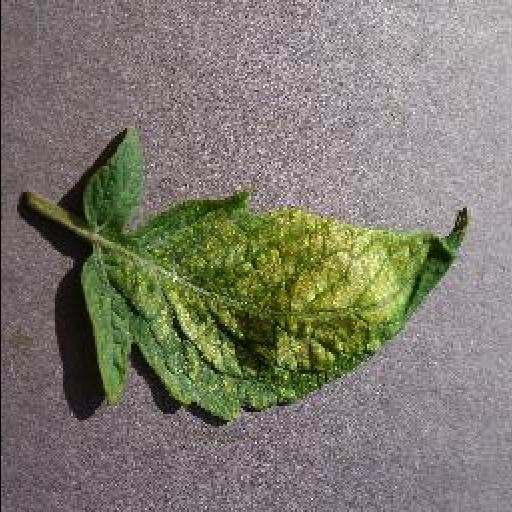disease_tomato: (79, 123, 469, 417)
